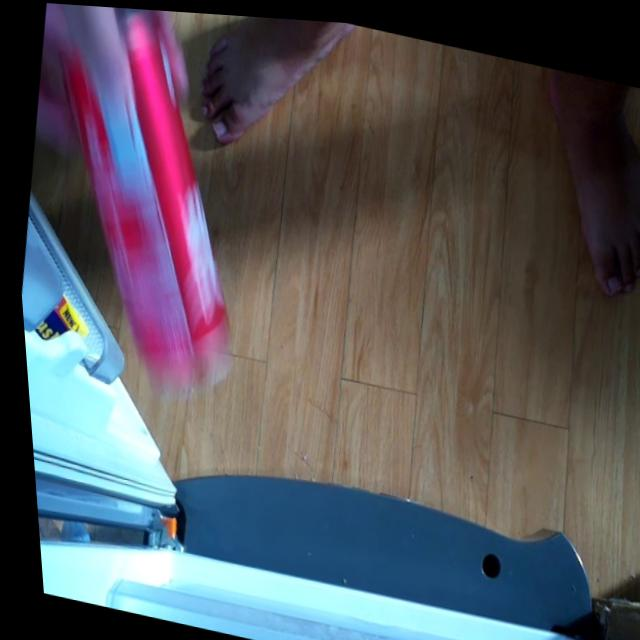coke: (3, 0, 290, 396)
